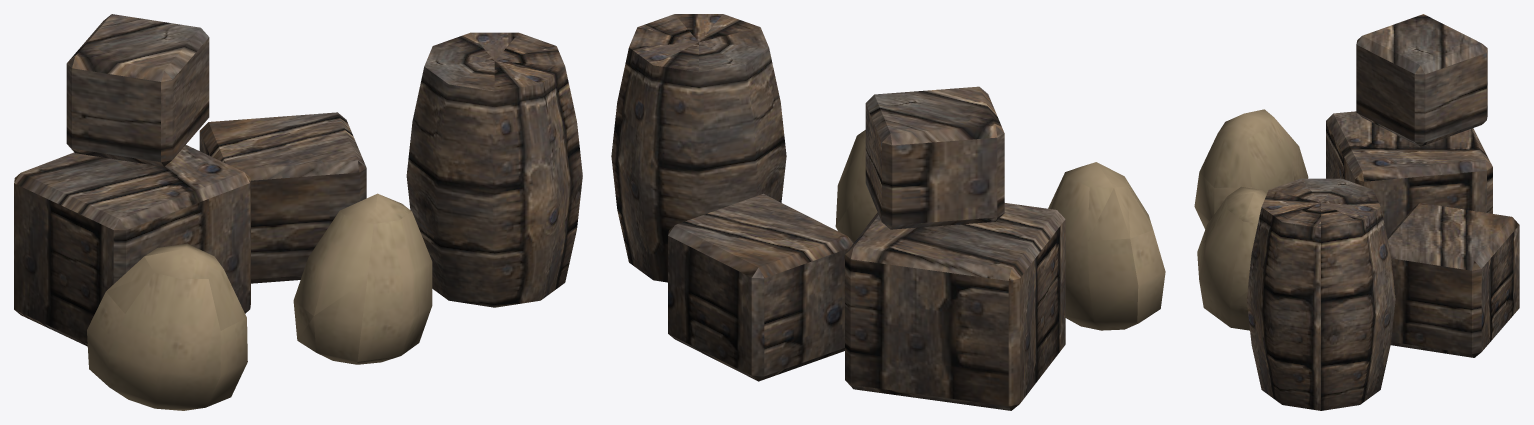
File: camp_crates.glb
3 views of the same model, side by side, from view 1: azimuth 30°, elevation 25°; view 2: azimuth 150°, elevation 25°; view 3: azimuth 270°, elevation 25° (orthographic). The views are drawn at different scales.
Parts seen in each view (by area): view 1: camp_crates; view 2: camp_crates; view 3: camp_crates.
Boxes of the visible parts, x1=… form: camp_crates: x1=14, y1=14, x2=582, y2=410; camp_crates: x1=611, y1=14, x2=1165, y2=410; camp_crates: x1=1194, y1=14, x2=1519, y2=410.
Bounding box in the file's own units: 1.95 × 1 × 1.29.
2 materials, 2 textured.
